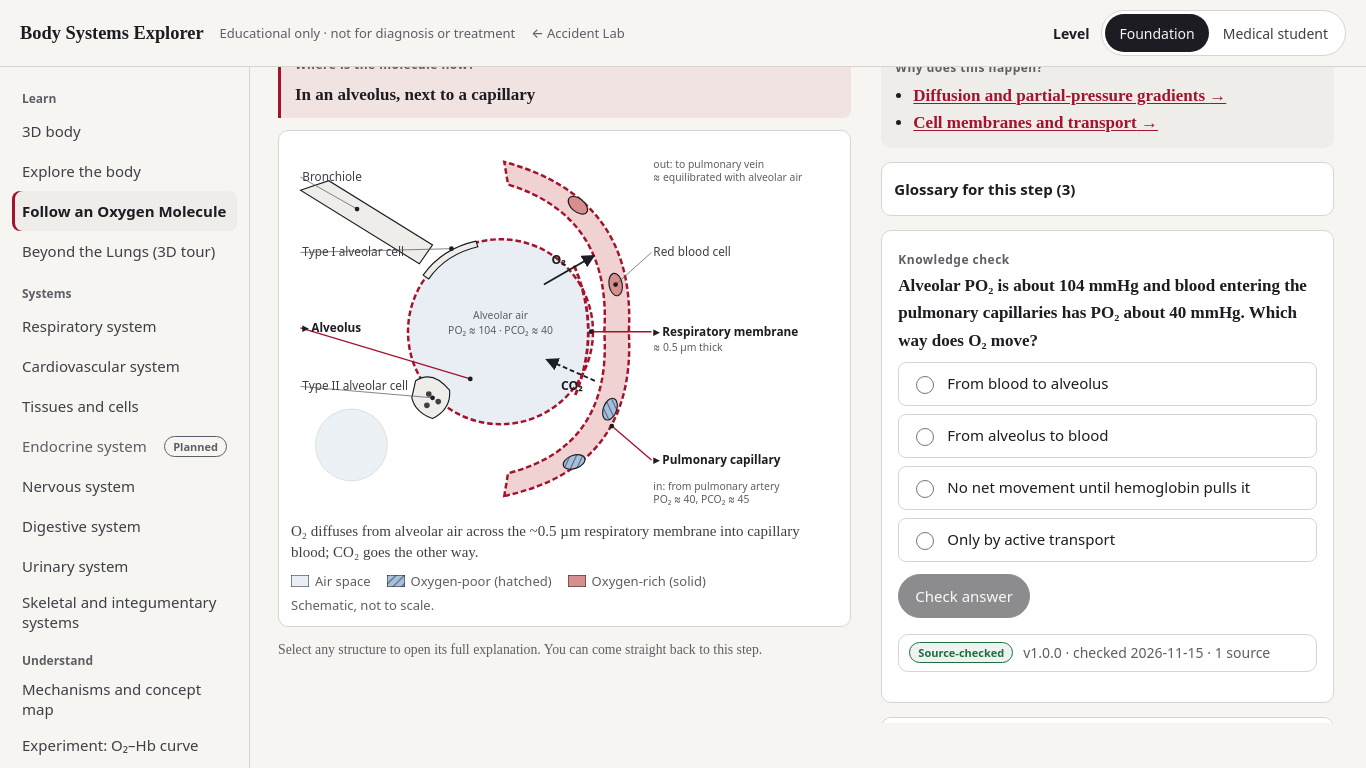
regressions from code review › a retry after the answer is revealed is not recorded as evidence
(page scrolled)
Click the radio button labelled "From blood to alveolus" at (925, 385), box [916,376,934,394]
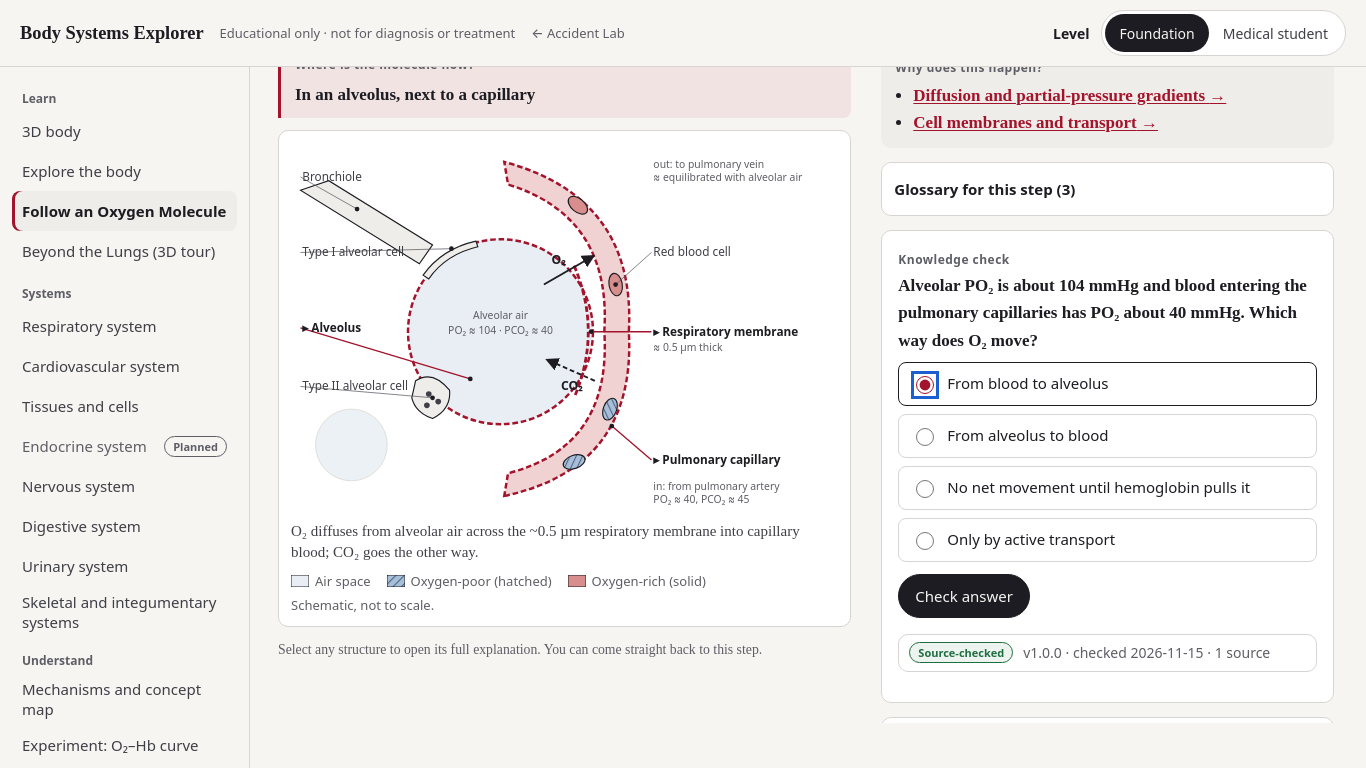
Click the button "Check answer" at (964, 596), box [898,574,1030,618]
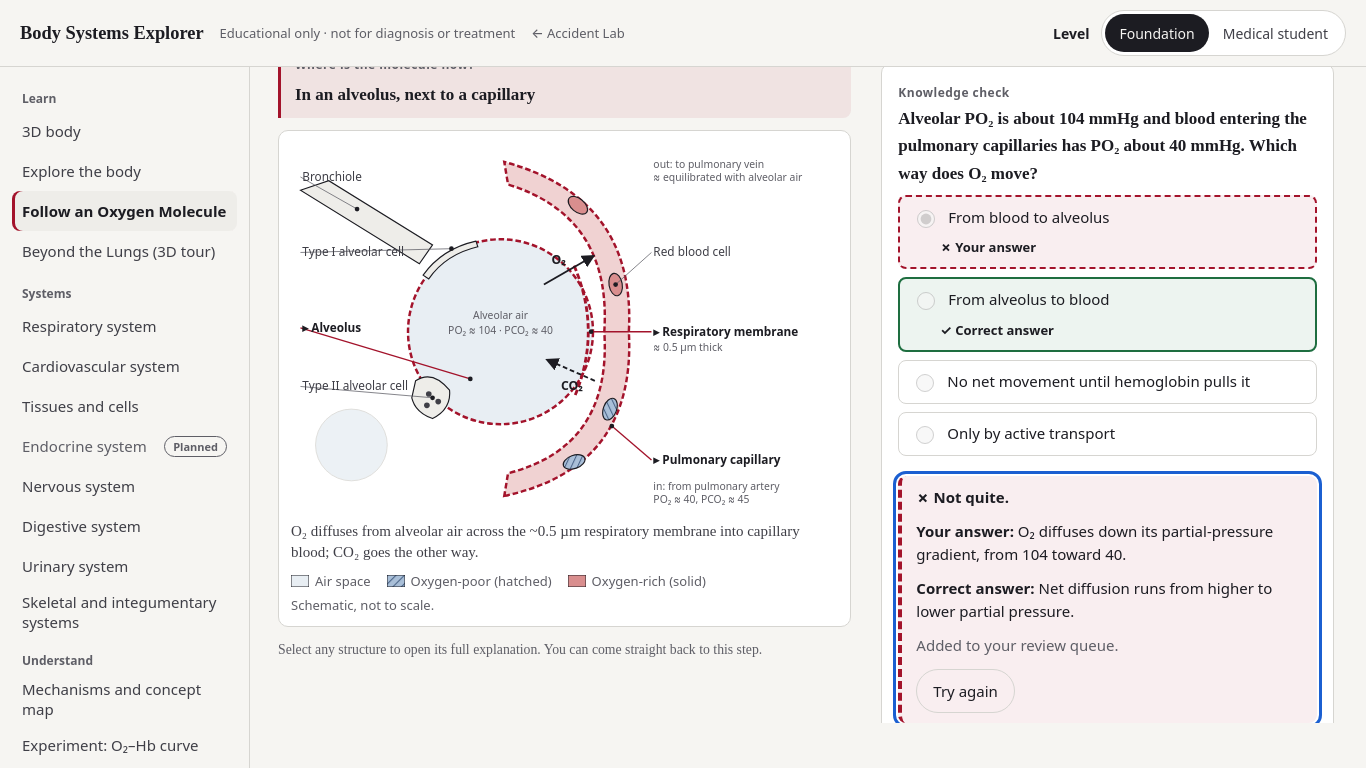
Click the button "Try again" at (966, 691), box [916,669,1015,713]
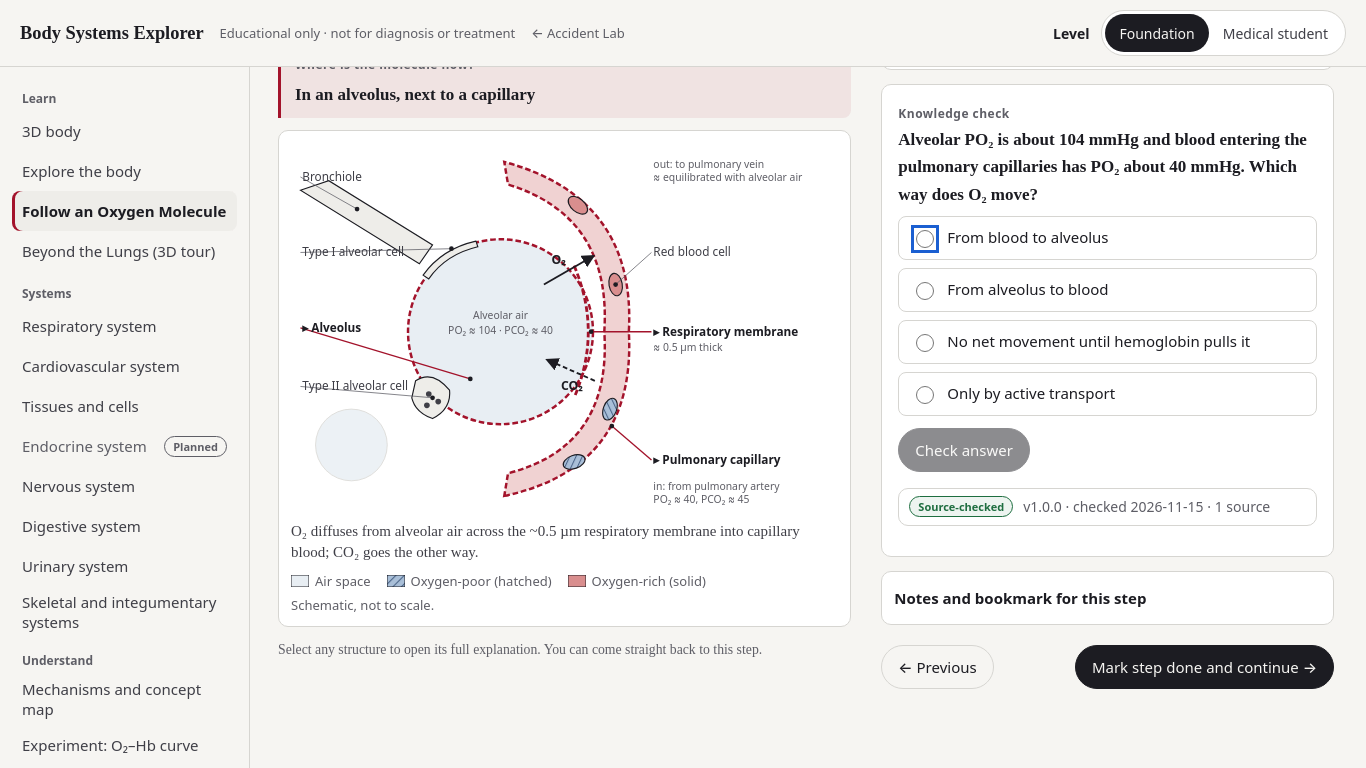
Click the radio button labelled "From alveolus to blood" at (925, 291), box [916,282,934,300]
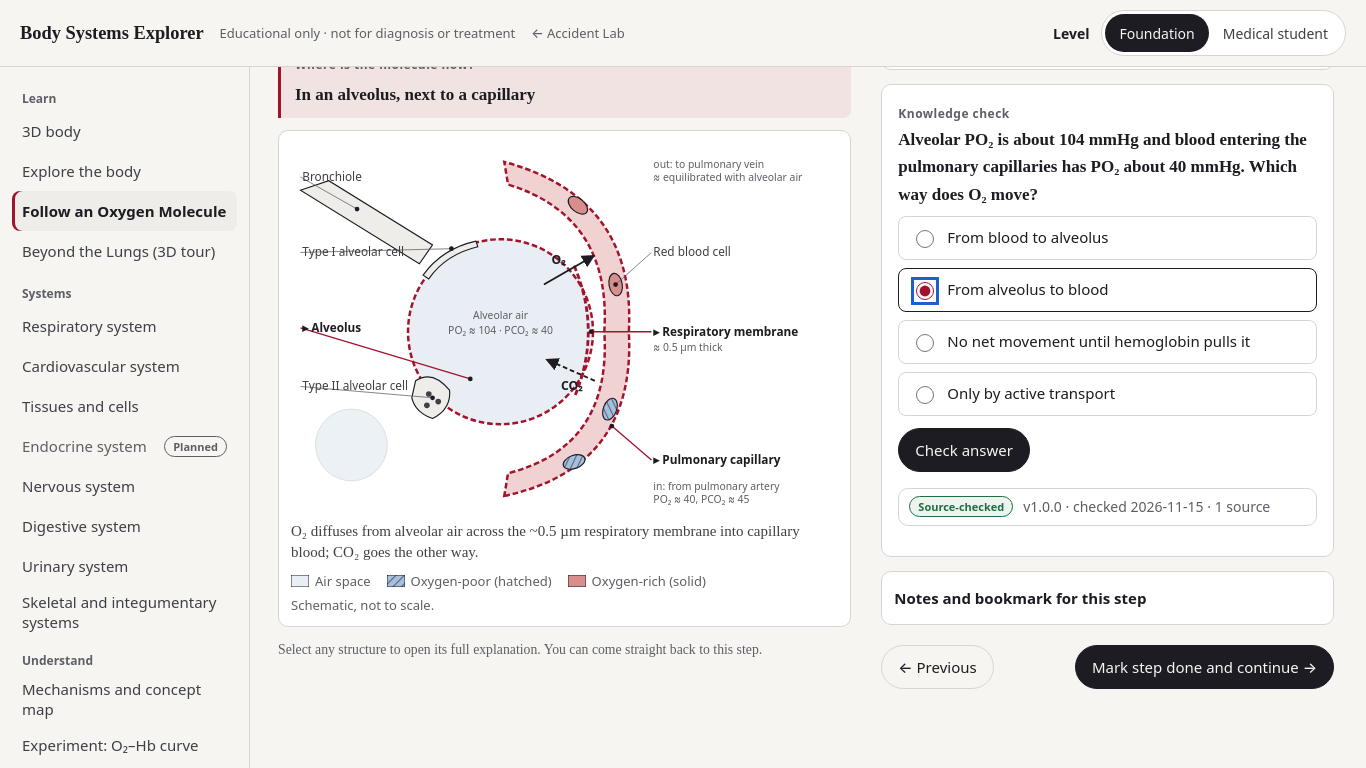
Click the button "Check answer" at (964, 450), box [898,428,1030,472]
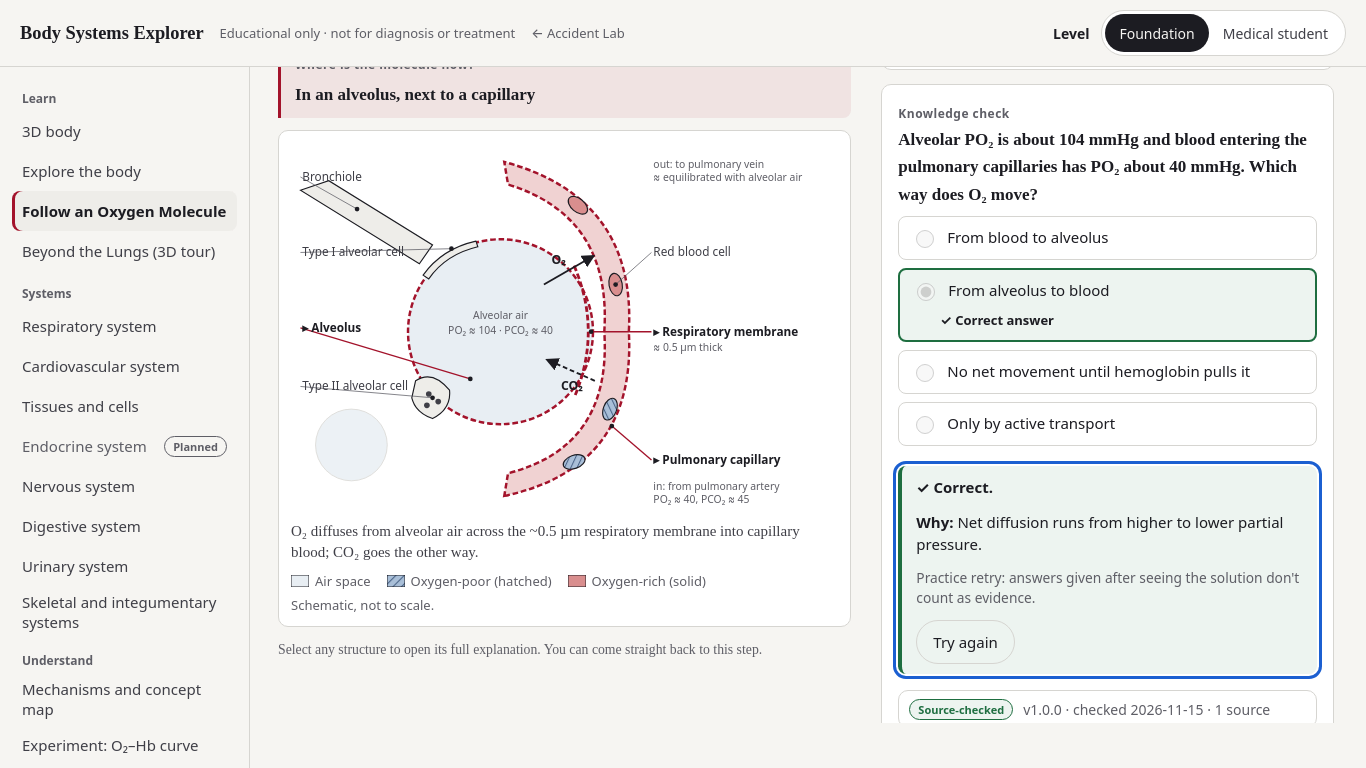
Expected: the text "Practice retry" is shown, [916,568,1299,607]
